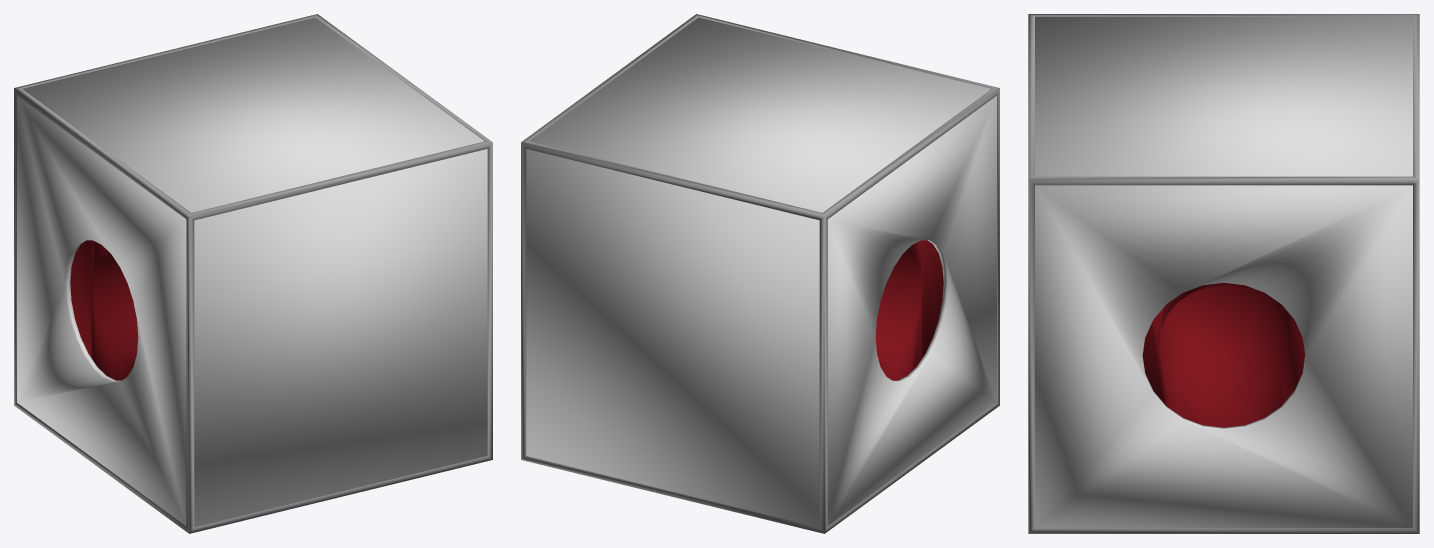
The model's file is pump_red.dae.
3 views of the same model, side by side, from view 1: azimuth 30°, elevation 25°; view 2: azimuth 150°, elevation 25°; view 3: azimuth 270°, elevation 25° (orthographic). The views are drawn at different scales.
Parts seen in each view (by area): view 1: pump_enclosure; view 2: pump_enclosure; view 3: pump_enclosure.
Boxes of the visible parts, x1=… form: pump_enclosure: x1=14, y1=14, x2=492, y2=533; pump_enclosure: x1=521, y1=14, x2=999, y2=533; pump_enclosure: x1=1028, y1=14, x2=1419, y2=533.
Bounding box in the file's own units: 0.12 × 0.12 × 0.12.
